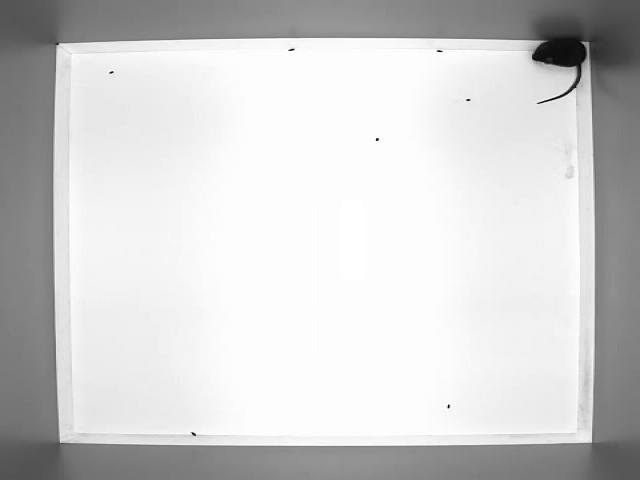Tikus: (518, 36, 595, 107)
